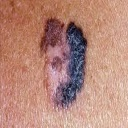Melanoma: (39, 16, 89, 111)
